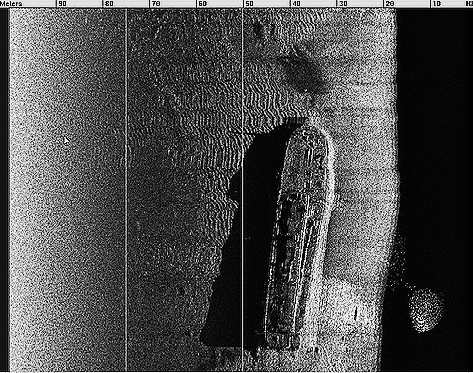ship: (260, 116, 337, 356)
